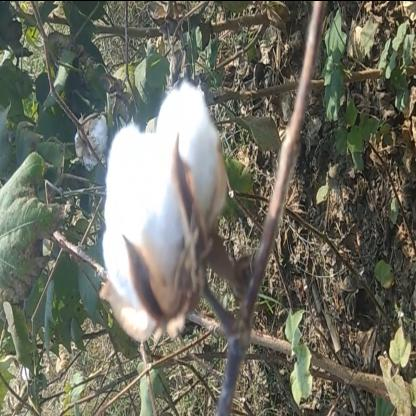cotton_ready: (85, 96, 273, 354)
